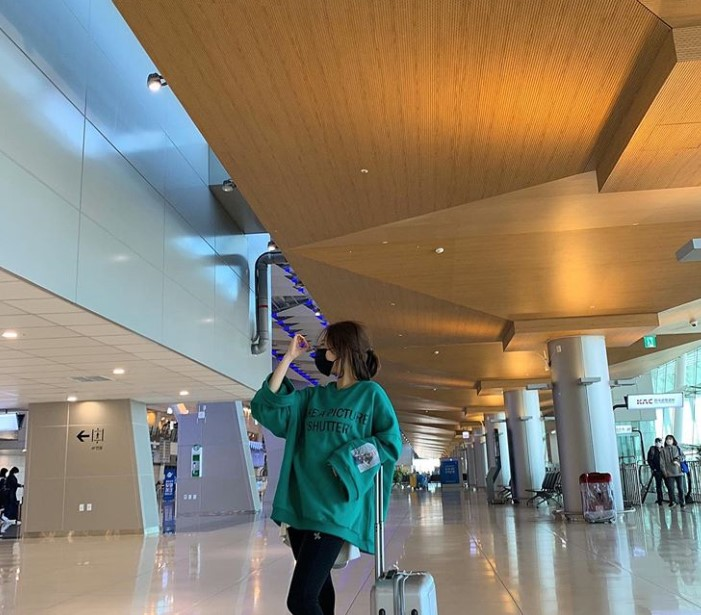face_with_mask: (312, 317, 359, 380)
